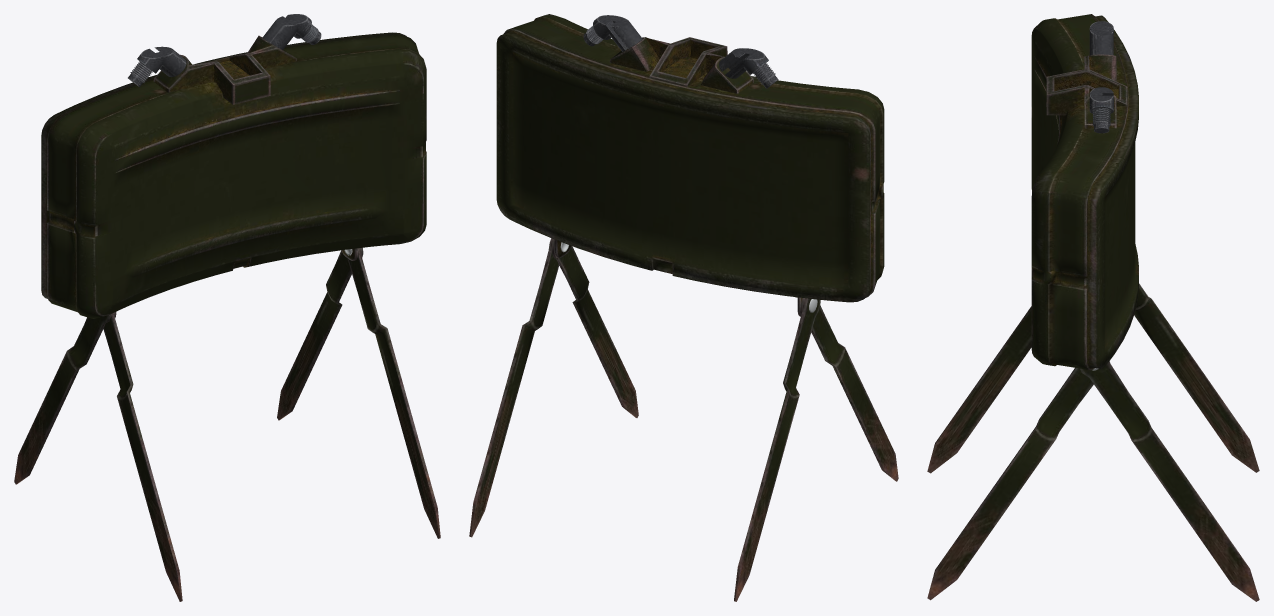
Rendered from claymore.glb.
3 views of the same model, side by side, from view 1: azimuth 30°, elevation 25°; view 2: azimuth 150°, elevation 25°; view 3: azimuth 270°, elevation 25° (orthographic).
Visible parts, largest first — view 1: prop; view 2: prop; view 3: prop.
Boxes of the visible parts, x1,y1,x2,y2 form: prop: (14,14,440,601); prop: (469,14,898,601); prop: (927,14,1259,601).
Bounding box in the file's own units: 0.216 × 0.2631 × 0.1664.
Materials: 1 (1 with a texture image).
